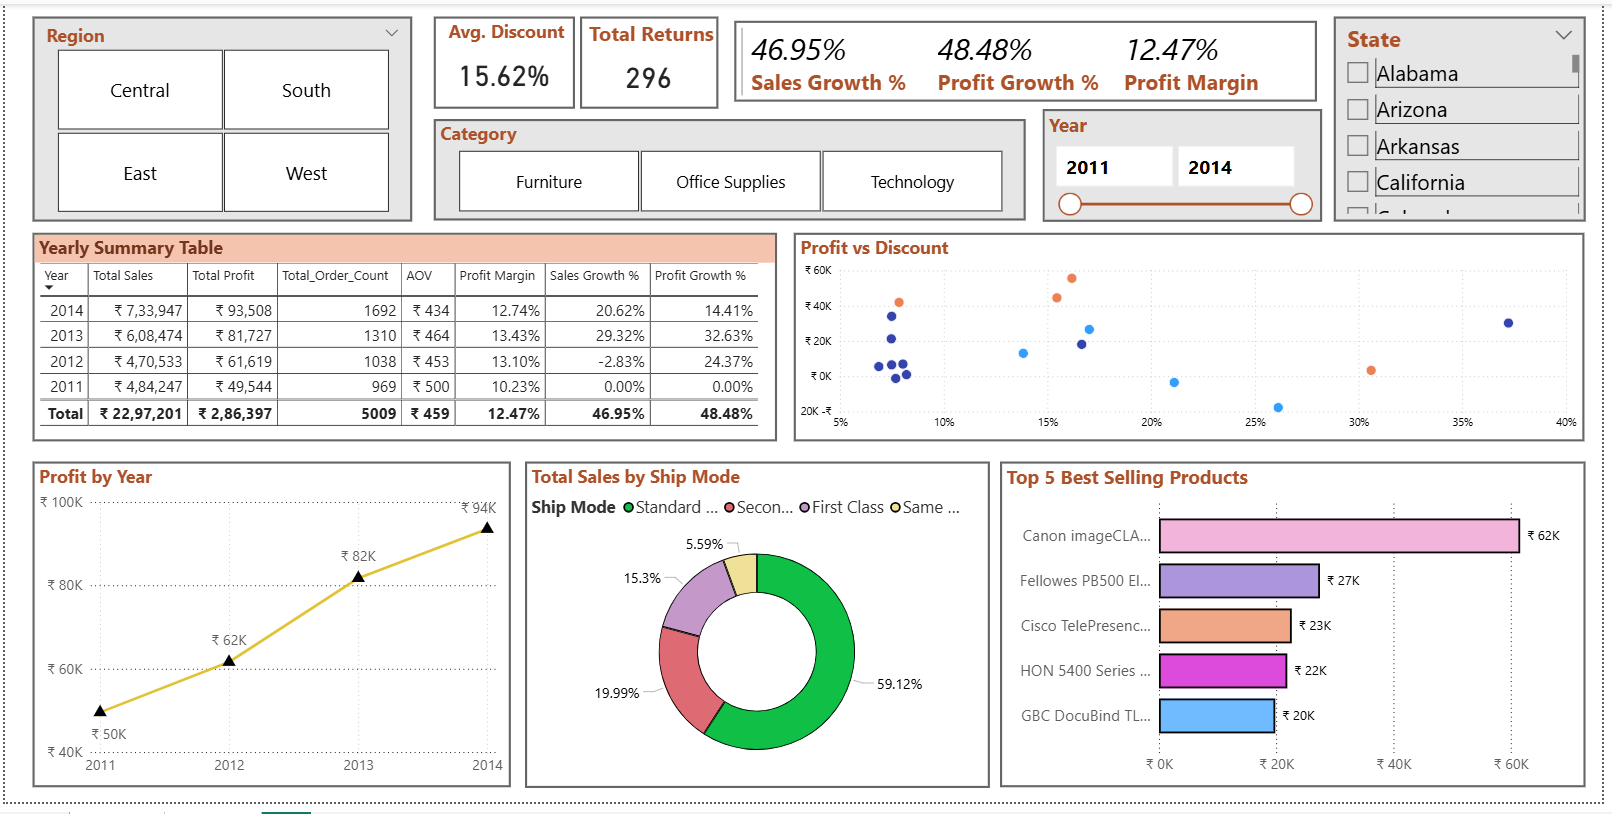

This screenshot's page, from the dashboard's own definition file:
{"tool":"powerbi","page":{"name":"Page 2","canvas":[1800,900],"ordinal":1},"visuals":[{"type":"tableEx","title":"Yearly Summary Table","fields":{"Values":["Date_Table.Date.Variation.Date Hierarchy.Year","Orders.Total Sales","Orders.Total Profit","Orders.Total_Order_Count","Orders.AOV","Orders.Profit Margin","Orders.Sales Growth %","Orders.Profit Growth %"]},"box":[30.6,258.3,839.2,235.4],"z":0},{"type":"multiRowCard","fields":{"Values":["Orders.Sales Growth %","Orders.Profit Growth %","Orders.Profit Margin"]},"box":[817.8,13.8,666.4,116.2],"z":1000},{"type":"slicer","fields":{"Values":["Orders.Region"]},"box":[30.6,13.8,428,230.8],"z":2000},{"type":"lineChart","title":"Profit by Year","fields":{"Category":["Date_Table.Date.Variation.Date Hierarchy.Year"],"Y":["Orders.Total Profit"]},"box":[30.3,515.7,539.3,367.4],"z":3000},{"type":"donutChart","fields":{"Category":["Orders.Ship Mode"],"Y":["Orders.Total Sales"]},"box":[585.4,515.1,524.3,368.4],"z":4000},{"type":"card","title":"Avg. Discount","fields":{"Values":["Avg(Orders.Discount)"]},"box":[483,13.8,159,103.9],"z":5000},{"type":"card","title":"Total Returns","fields":{"Values":["CountNonNull(Returns.Order ID)"]},"box":[648.1,13.8,155.9,103.9],"z":6000},{"type":"slicer","fields":{"Values":["Orders.State"]},"box":[1497.3,14.2,284,231.3],"z":7000},{"type":"clusteredBarChart","title":"Top 5 Best Selling Products","fields":{"Category":["Orders.Product Name"],"Y":["Orders.Total Sales"]},"box":[1121.9,515.1,660.3,366.8],"z":8000},{"type":"slicer","title":"Year","fields":{"Values":["Date_Table.Date.Variation.Date Hierarchy.Year"]},"box":[1169.3,117.7,314.9,126.9],"z":9000},{"type":"scatterChart","title":"Profit vs Discount","fields":{"X":["Avg(Orders.Discount)"],"Y":["Orders.Total Profit"],"Series":["Orders.Category"],"Category":["Orders.Sub-Category"]},"box":[889.6,258.3,891.1,235.4],"z":10000},{"type":"slicer","title":"Category","fields":{"Values":["Orders.Category"]},"box":[483.7,129.8,667.4,114.6],"z":11000}]}

Visuals, with their boxes in screenshot pixels (x1, y1, x2, y2), scaled from the page's 1800x900 canvas onto the 1612x814 screenshot:
"Yearly Summary Table" tableEx: pyautogui.locateOnScreen(27, 234, 779, 447)
multiRowCard - Orders.Sales Growth % x Orders.Profit Growth %: pyautogui.locateOnScreen(732, 12, 1329, 118)
slicer - Orders.Region: pyautogui.locateOnScreen(27, 12, 411, 221)
"Profit by Year" lineChart: pyautogui.locateOnScreen(27, 466, 510, 799)
donutChart - Orders.Ship Mode x Orders.Total Sales: pyautogui.locateOnScreen(524, 466, 994, 799)
"Avg. Discount" card: pyautogui.locateOnScreen(433, 12, 575, 106)
"Total Returns" card: pyautogui.locateOnScreen(580, 12, 720, 106)
slicer - Orders.State: pyautogui.locateOnScreen(1341, 13, 1595, 222)
"Top 5 Best Selling Products" clusteredBarChart: pyautogui.locateOnScreen(1005, 466, 1596, 798)
"Year" slicer: pyautogui.locateOnScreen(1047, 106, 1329, 221)
"Profit vs Discount" scatterChart: pyautogui.locateOnScreen(797, 234, 1595, 447)
"Category" slicer: pyautogui.locateOnScreen(433, 117, 1031, 221)
